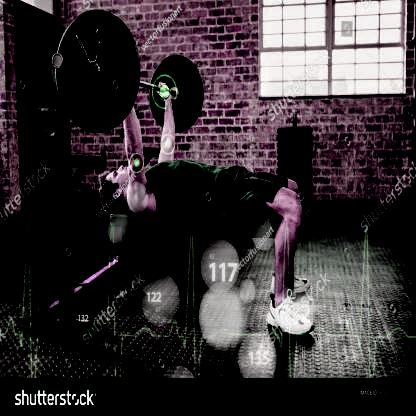Barbell: (52, 46, 65, 77)
